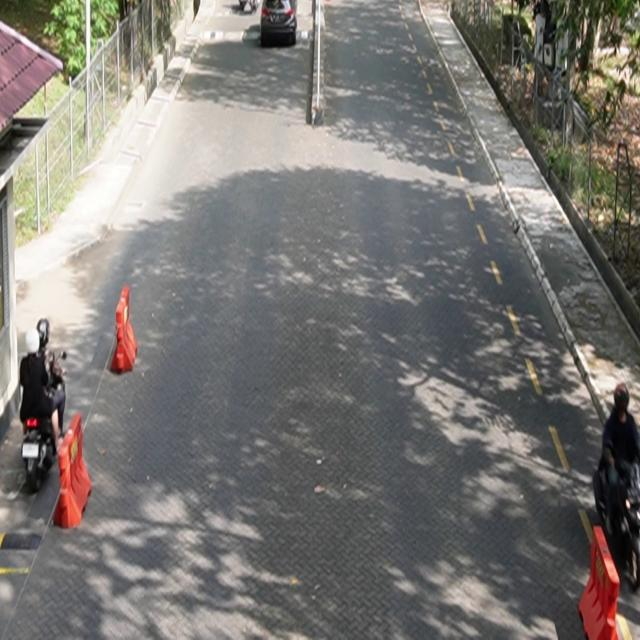car: (261, 1, 299, 48)
